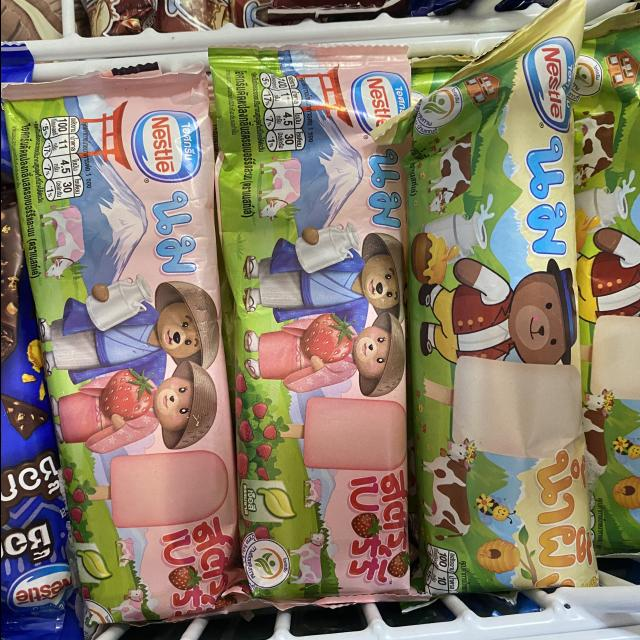plastik: (372, 0, 597, 596), (1, 70, 241, 623), (208, 47, 409, 606)
